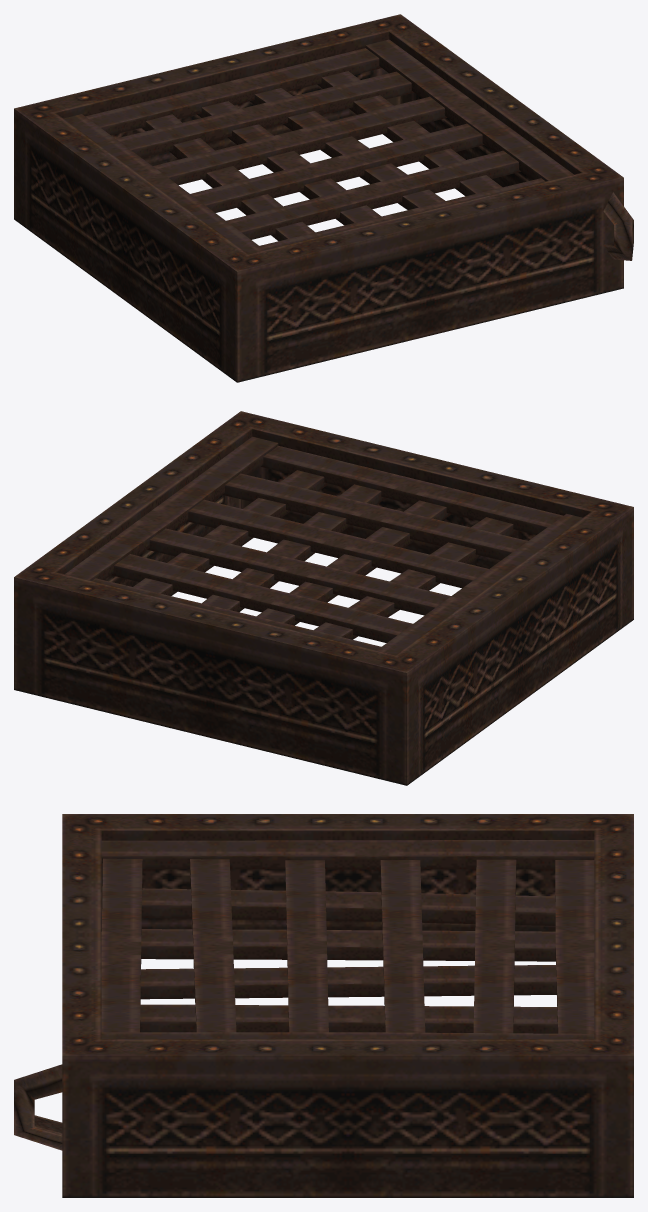
The model's file is 10504_Metalplatform.FBX.
3 views of the same model, one above another, from view 1: azimuth 30°, elevation 25°; view 2: azimuth 150°, elevation 25°; view 3: azimuth 270°, elevation 25° (orthographic). The views are drawn at different scales.
Visible parts, largest first — view 1: 10504_IronRail07; view 2: 10504_IronRail07; view 3: 10504_IronRail07.
Part boxes in pixels (x1,y1,x2,y2): 10504_IronRail07: (14,14,633,382); 10504_IronRail07: (14,411,633,785); 10504_IronRail07: (14,814,633,1197).
Bounding box in the file's own units: 400 × 110 × 434.
